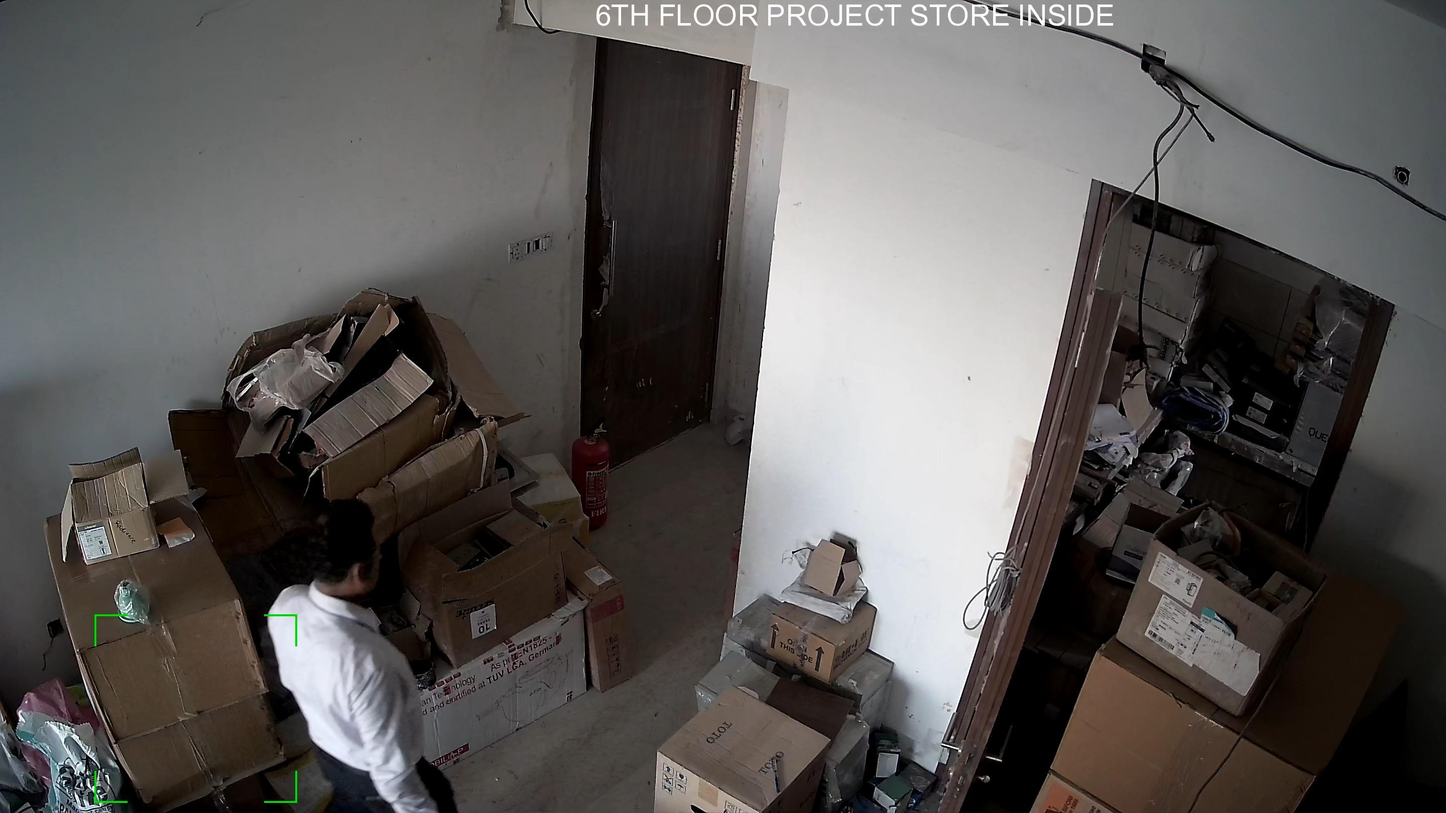Door-Close: (566, 33, 755, 492)
